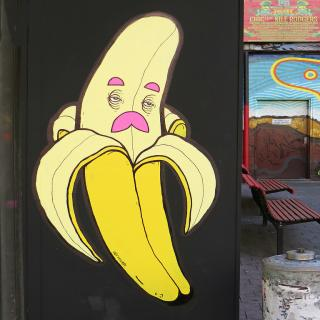Banana: (30, 19, 232, 286)
